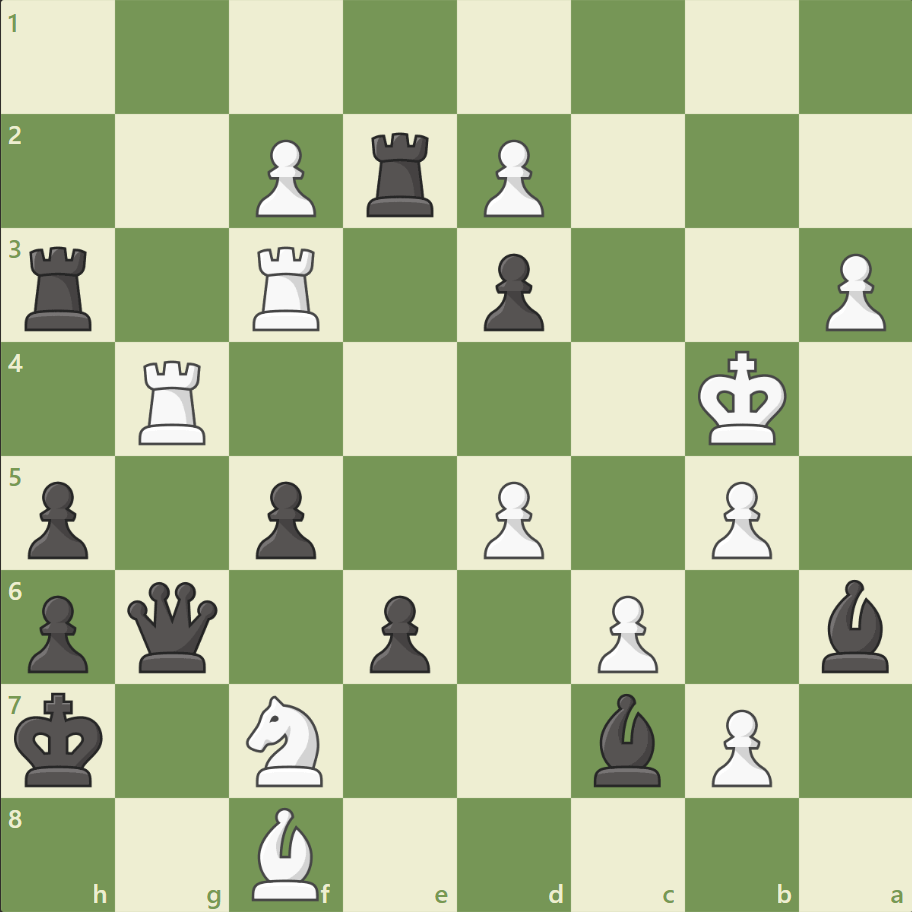B: (244, 801, 328, 904)
K: (692, 344, 792, 452)
N: (238, 688, 335, 791)
P: (701, 700, 776, 791), (701, 473, 776, 564), (474, 473, 549, 564), (474, 132, 549, 223), (247, 132, 322, 223), (588, 586, 662, 677), (815, 246, 889, 337)
R: (246, 239, 329, 336), (133, 352, 215, 449)
b: (585, 687, 669, 790), (812, 574, 896, 676)
k: (11, 685, 111, 793)
p: (20, 586, 95, 677), (247, 473, 322, 564), (20, 473, 95, 564), (474, 246, 549, 337), (361, 586, 435, 677)
q: (124, 576, 223, 676)
r: (19, 239, 102, 336), (360, 125, 442, 222)
